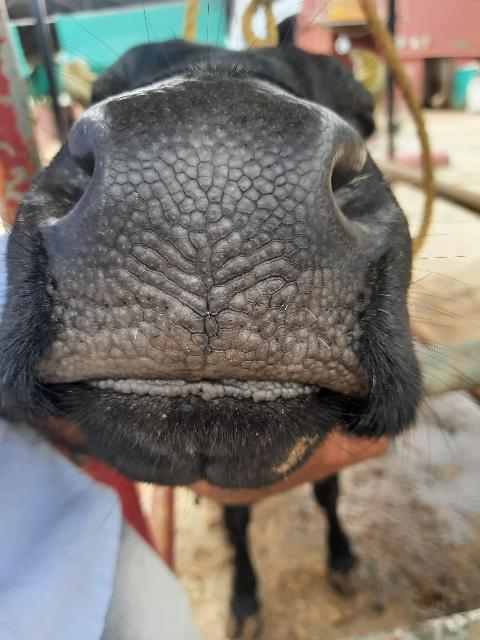Muzzle: (52, 110, 368, 390)
